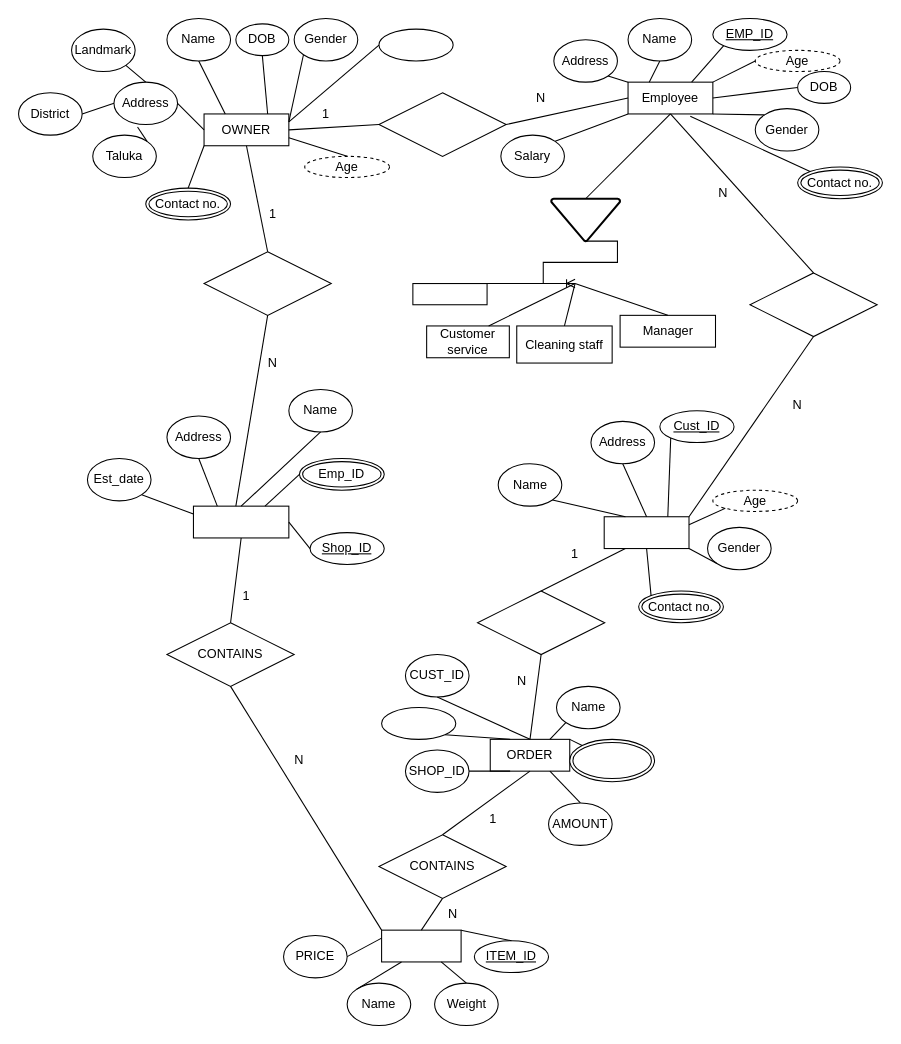
This 901x1044 diagram has some shape labels left out. The shapes that lost their labels are listed below. From the top down, each one's box as (x1, y1, x2, y2) in pixels, then its label:
(378, 28, 453, 61): Owner_ID
(378, 92, 506, 156): EMPLOYS
(550, 197, 621, 242): IS A
(203, 251, 331, 315): OWNS
(412, 282, 487, 305): Packer
(749, 272, 877, 337): Serves
(192, 505, 289, 538): SHOP
(603, 516, 689, 549): Customer
(476, 590, 605, 655): PLACES
(381, 706, 456, 739): ORDER_ID
(569, 738, 655, 782): ITEMS BOUGHT
(381, 929, 461, 962): ITEMS
